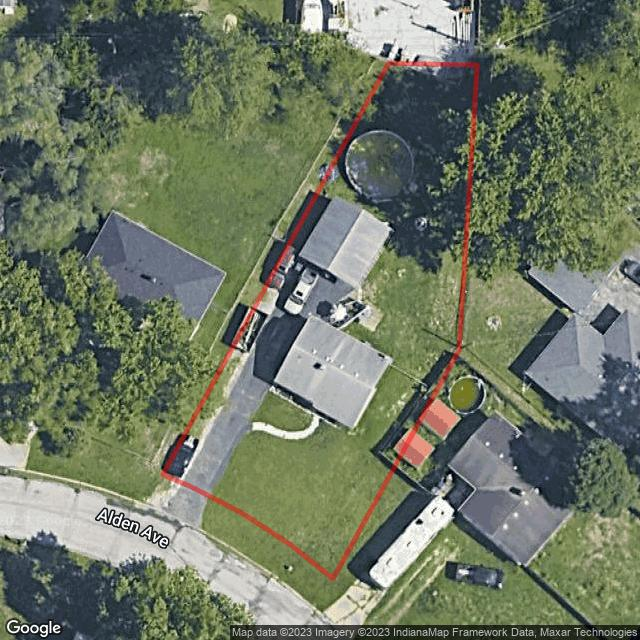Driveway: (183, 260, 354, 495), (252, 415, 319, 440)
Extra Driveway: (158, 485, 206, 526)
Extra Lawn: (201, 498, 333, 611), (135, 474, 165, 502)
Extra Sidewalk: (142, 478, 180, 508)
House: (270, 316, 391, 434)
Other: (299, 198, 391, 288), (346, 130, 415, 201), (324, 286, 384, 331), (236, 310, 266, 351)
